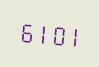one: (33, 18, 47, 46), (63, 21, 77, 49)
six: (18, 17, 32, 45)
zero: (48, 19, 62, 48)
